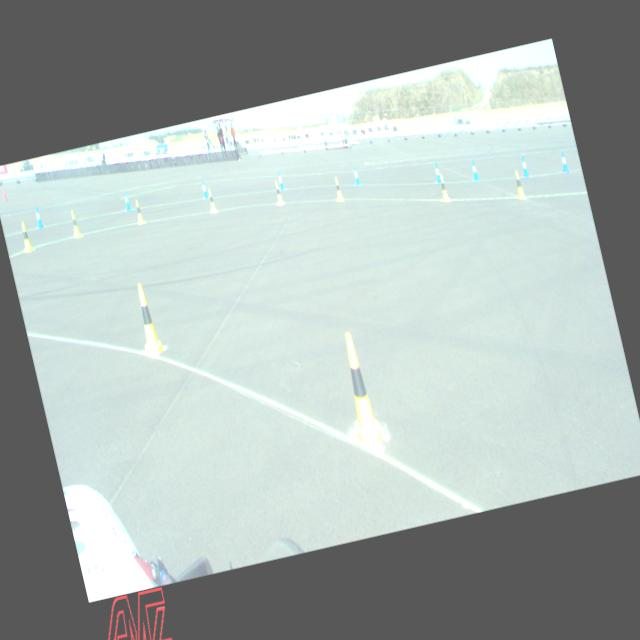blue_cone: (468, 158, 479, 182), (518, 155, 530, 177), (33, 205, 44, 228), (558, 150, 569, 172), (122, 190, 132, 210), (432, 162, 441, 183), (276, 170, 285, 190), (200, 178, 209, 198), (352, 165, 361, 185)
yellow_cone: (330, 329, 388, 451), (130, 280, 166, 356), (17, 220, 34, 252), (511, 170, 526, 200), (436, 173, 451, 203), (68, 210, 82, 238), (133, 198, 145, 224), (272, 180, 284, 204), (205, 188, 217, 212), (332, 176, 343, 201)
